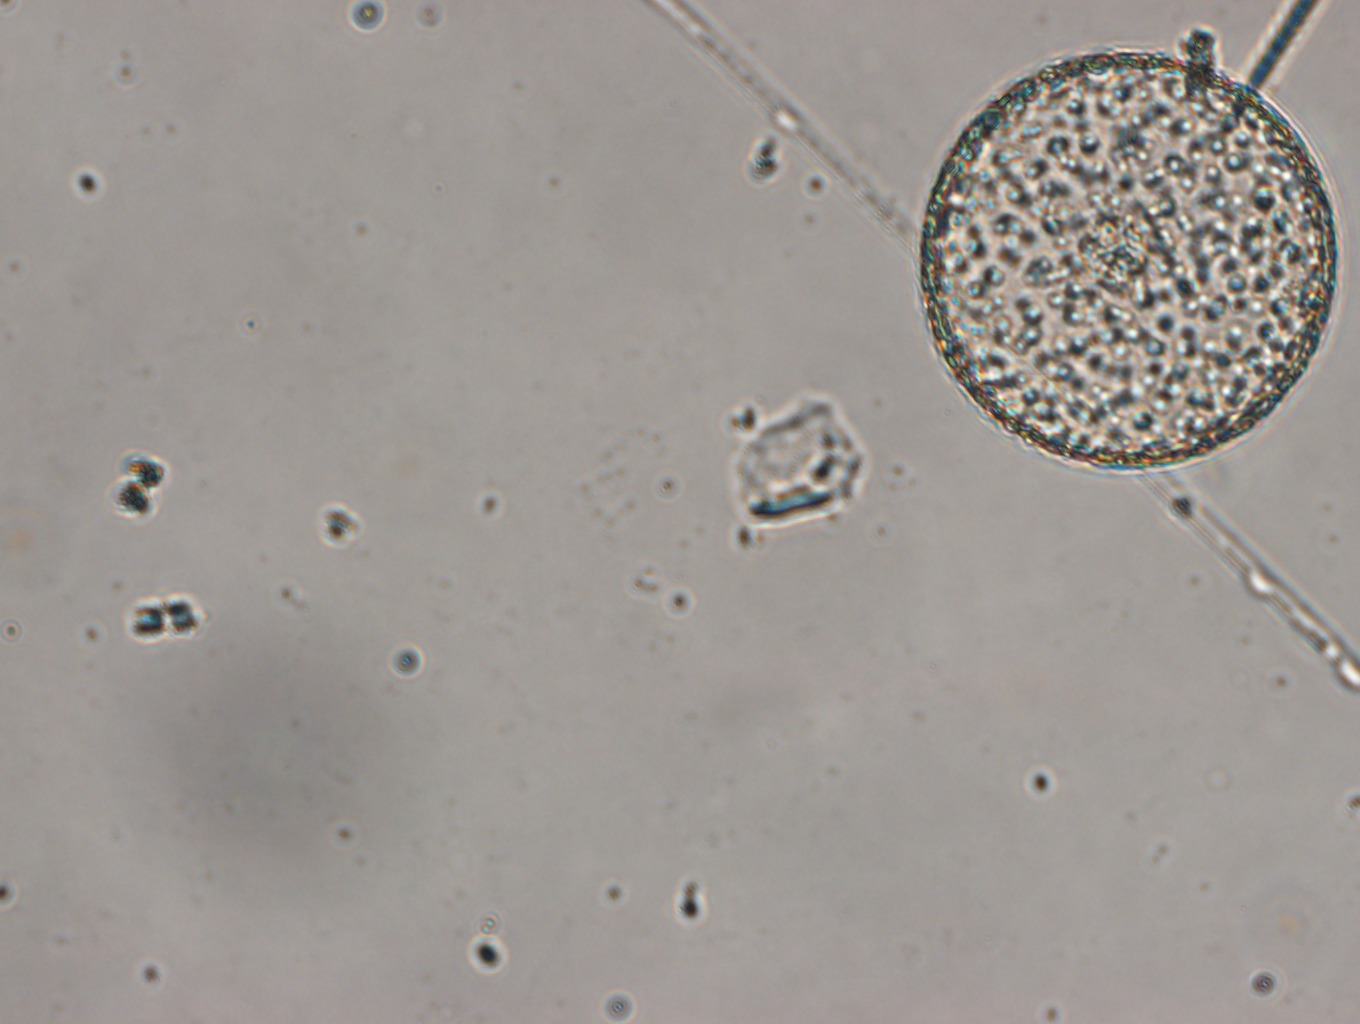coscinodiscus: (913, 40, 1347, 475)
